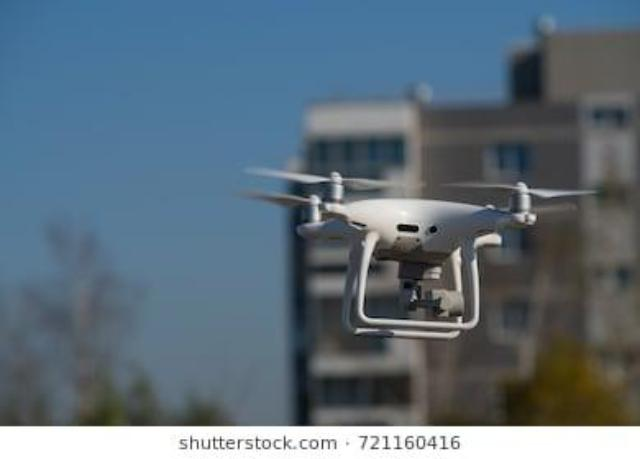drone: (213, 126, 615, 354)
